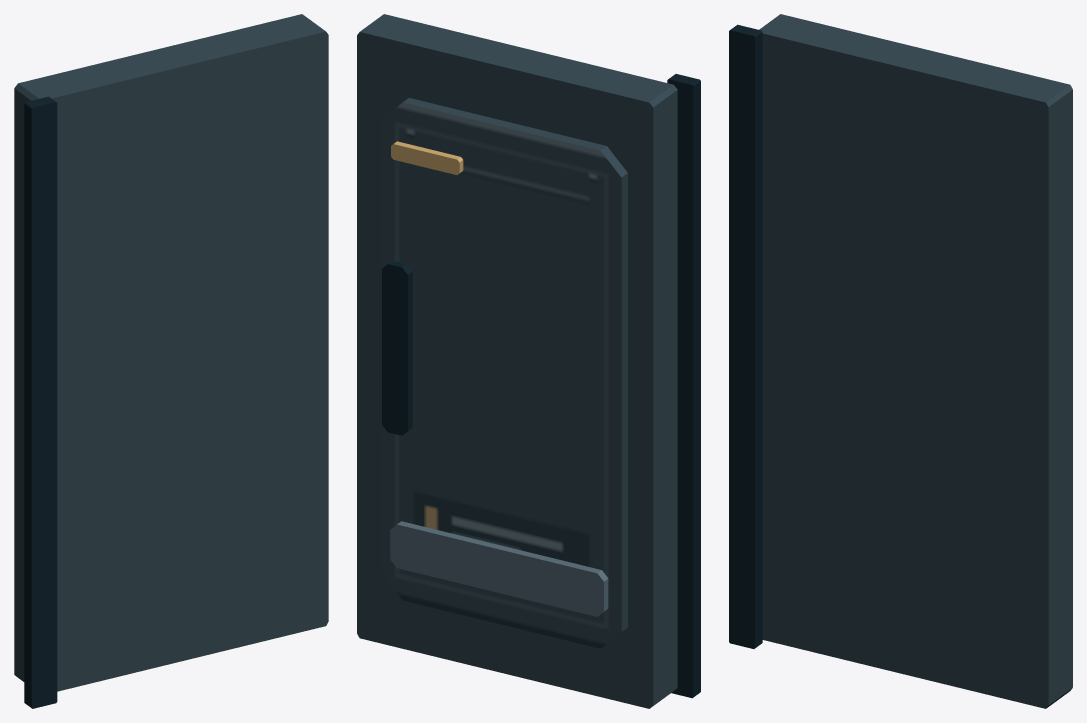
Rendered from ship_locker_left_door.obj.
3 renders of one model, left to right at view 1: azimuth 30°, elevation 25°; view 2: azimuth 150°, elevation 25°; view 3: azimuth 330°, elevation 25°, orthographic.
Visible parts, largest first — view 1: left_sliding_door_0, door_seam_overlap_lip_5; view 2: door_inset_0_1, left_sliding_door_0, door_seam_overlap_lip_5, door_lower_raised_panel_0_4, recessed_pull_0_2, door_upper_marking_0_3; view 3: left_sliding_door_0, door_seam_overlap_lip_5.
Boxes of the visible parts, bbox=[...] form: left_sliding_door_0: bbox=[14, 14, 328, 691]; door_seam_overlap_lip_5: bbox=[24, 96, 57, 708]; door_inset_0_1: bbox=[382, 98, 627, 648]; left_sliding_door_0: bbox=[357, 14, 677, 708]; door_seam_overlap_lip_5: bbox=[667, 74, 700, 698]; door_lower_raised_panel_0_4: bbox=[390, 521, 608, 616]; recessed_pull_0_2: bbox=[382, 261, 412, 435]; door_upper_marking_0_3: bbox=[391, 141, 463, 174]; left_sliding_door_0: bbox=[759, 14, 1072, 708]; door_seam_overlap_lip_5: bbox=[729, 24, 762, 648].
Bounding box in the file's own units: 0.2987 × 0.5625 × 0.0725.
